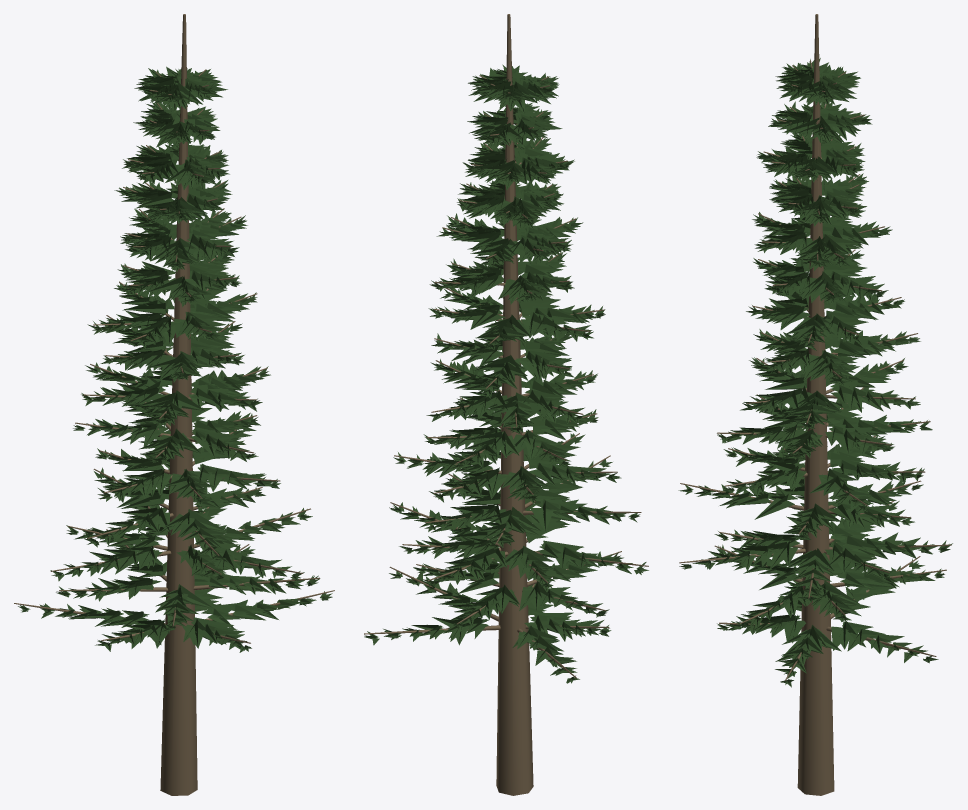
Rendered from cedar2.glb.
3 views of the same model, side by side, from view 1: azimuth 30°, elevation 25°; view 2: azimuth 150°, elevation 25°; view 3: azimuth 270°, elevation 25° (orthographic).
Parts seen in each view (by area): view 1: leaf, bark; view 2: leaf, bark; view 3: leaf, bark.
Boxes of the visible parts, bbox=[...] form: leaf: bbox=[18, 66, 332, 652]; bark: bbox=[14, 14, 334, 795]; leaf: bbox=[364, 64, 648, 683]; bark: bbox=[364, 14, 648, 795]; leaf: bbox=[678, 58, 952, 687]; bark: bbox=[679, 14, 951, 795].
Size of the model in its own units: 7.05 by 19.18 by 6.17.
